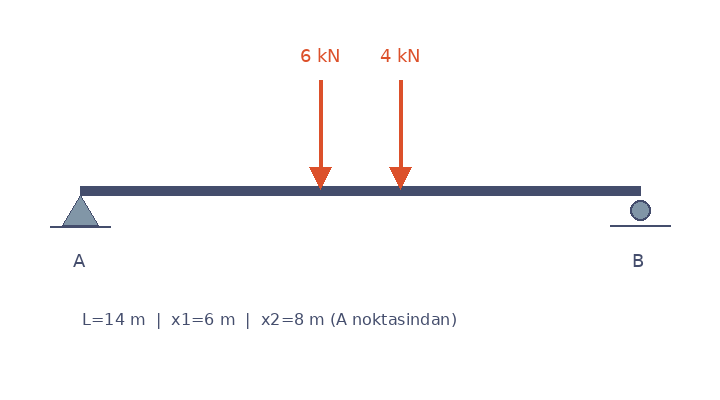pin_support: (61, 190, 99, 226)
point_load: (306, 76, 334, 190), (386, 76, 414, 190)
roller_support: (625, 196, 655, 227)
